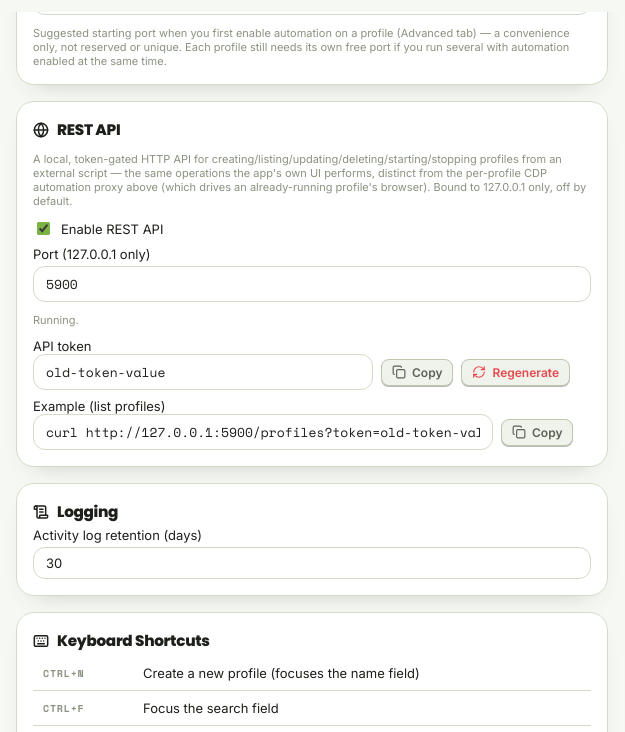
it: SettingsPage › clicking "Regenerate" fetches a fresh token and displays it
(page scrolled)
expect the field showing "old-token-value" is shown: met, box [33,354,373,390]
Click the button "Regenerate" at (516, 372), box [462,358,570,386]
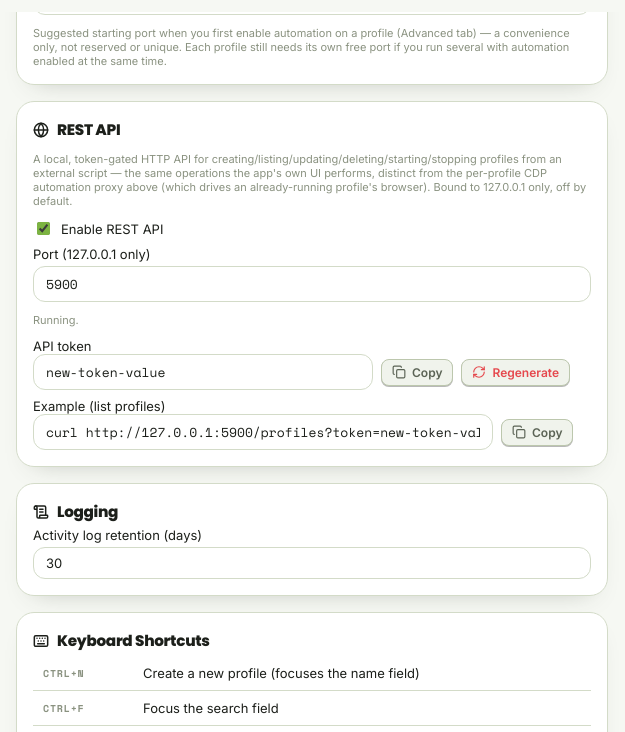
expect the field showing "new-token-value" is shown: met, box [33,354,373,390]
